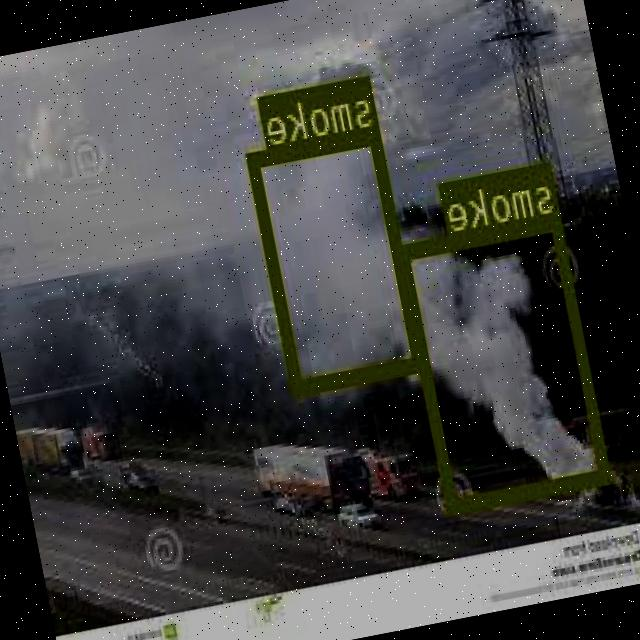smoke: (399, 210, 615, 512), (248, 125, 426, 392)
